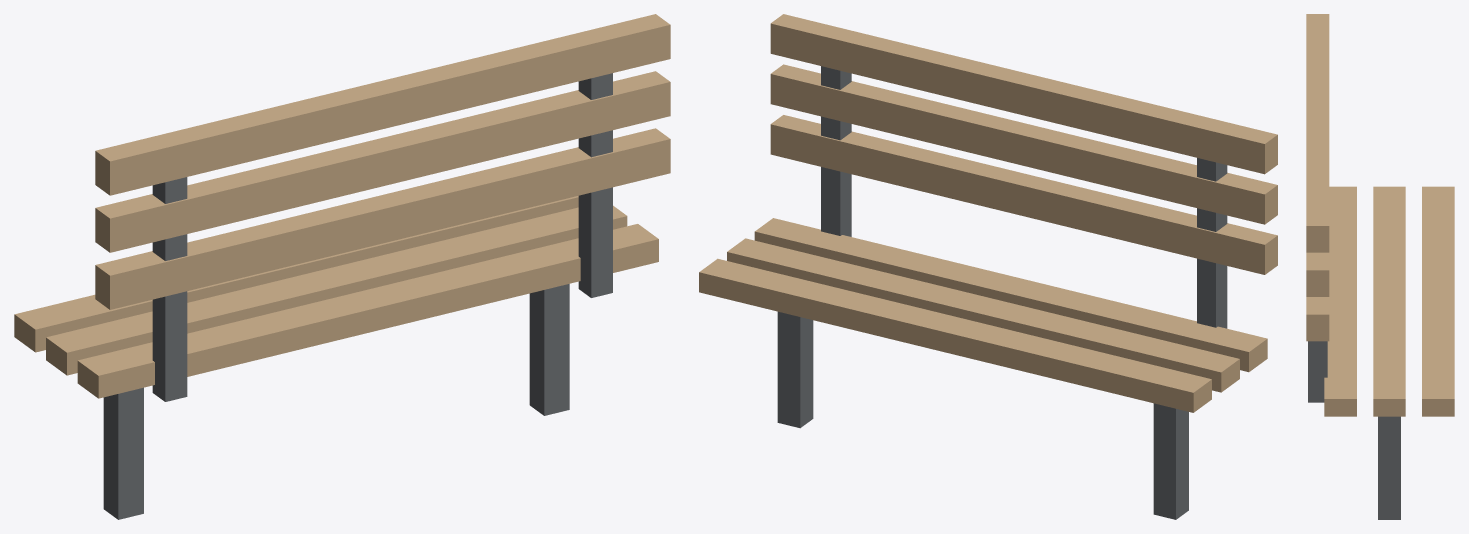
Rendered from bench_05.glb.
3 views of the same model, side by side, from view 1: azimuth 30°, elevation 25°; view 2: azimuth 150°, elevation 25°; view 3: azimuth 270°, elevation 25° (orthographic). The views are drawn at different scales.
Parts seen in each view (by area): view 1: back2, back0, back1, slat0.15, slat0.0, slat-0.15, backpost-0.5852, leg-0.5852, leg0.5852, backpost0.5852; view 2: back2, back0, back1, slat-0.15, slat0.0, slat0.15, leg0.5852, leg-0.5852, backpost0.5852, backpost-0.5852; view 3: slat-0.15, slat0.0, slat0.15, back2, leg0.5852, backpost0.5852, back0, back1.
Boxes of the visible parts, bbox=[...] form: back2: bbox=[95, 14, 670, 195]; back0: bbox=[95, 128, 670, 309]; back1: bbox=[95, 71, 670, 252]; slat0.15: bbox=[77, 224, 658, 398]; slat0.0: bbox=[46, 205, 627, 375]; slat-0.15: bbox=[14, 196, 578, 352]; backpost-0.5852: bbox=[152, 177, 187, 401]; leg-0.5852: bbox=[103, 387, 143, 519]; leg0.5852: bbox=[529, 284, 569, 415]; backpost0.5852: bbox=[578, 73, 612, 297]; back2: bbox=[770, 14, 1277, 174]; back0: bbox=[770, 115, 1277, 274]; back1: bbox=[770, 64, 1277, 224]; slat-0.15: bbox=[699, 258, 1211, 412]; slat0.0: bbox=[727, 238, 1239, 392]; slat0.15: bbox=[754, 218, 1267, 372]; leg0.5852: bbox=[777, 311, 813, 428]; leg-0.5852: bbox=[1153, 403, 1188, 519]; backpost0.5852: bbox=[821, 66, 851, 236]; backpost-0.5852: bbox=[1197, 158, 1227, 328]; slat-0.15: bbox=[1422, 186, 1454, 416]; slat0.0: bbox=[1373, 186, 1405, 416]; slat0.15: bbox=[1324, 186, 1356, 416]; back2: bbox=[1306, 14, 1329, 252]; leg0.5852: bbox=[1378, 416, 1400, 519]; backpost0.5852: bbox=[1308, 341, 1327, 402]; back0: bbox=[1306, 297, 1329, 341]; back1: bbox=[1306, 252, 1329, 296].
Size of the model in its own units: 1.54 by 1.07 by 0.455.
